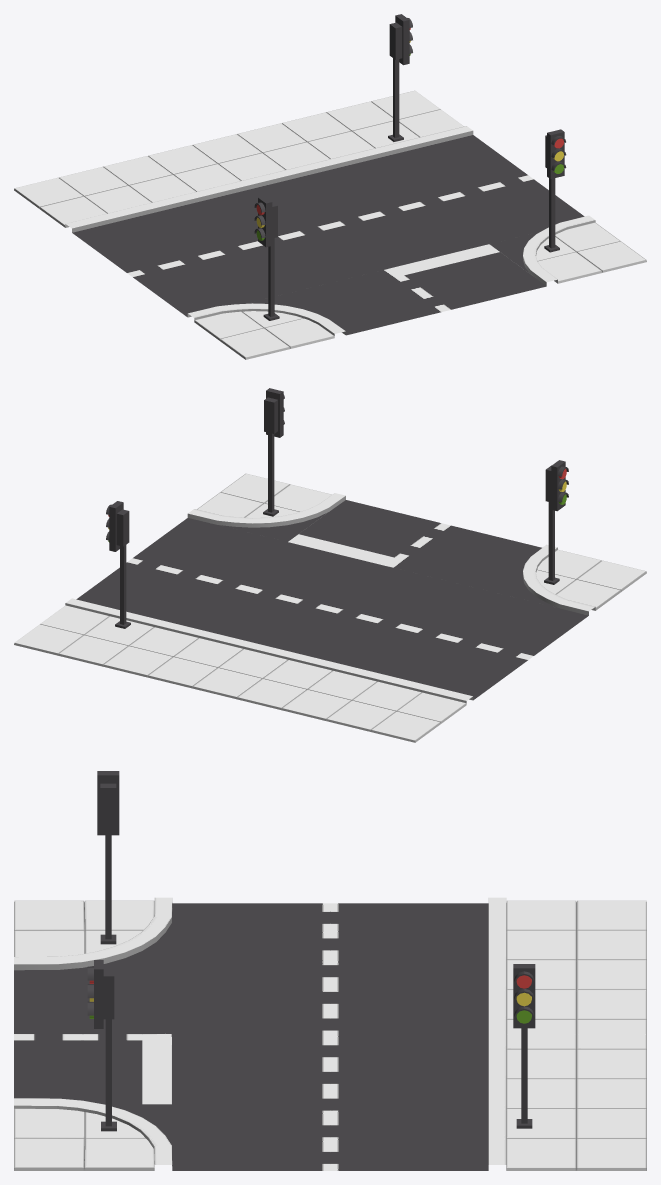
Rendered from RoadThreeSide.fbx.
3 renders of one model, top to bottom at view 1: azimuth 30°, elevation 25°; view 2: azimuth 150°, elevation 25°; view 3: azimuth 270°, elevation 25°, orthographic. The views are drawn at different scales.
Visible parts, largest first — view 1: Road_D; view 2: Road_D; view 3: Road_D.
Boxes of the visible parts, x1,y1,x2,y2 form: Road_D: (14, 14, 646, 359); Road_D: (14, 388, 646, 742); Road_D: (14, 771, 646, 1170).
Bounding box in the file's own units: 2000 × 579 × 2000.
